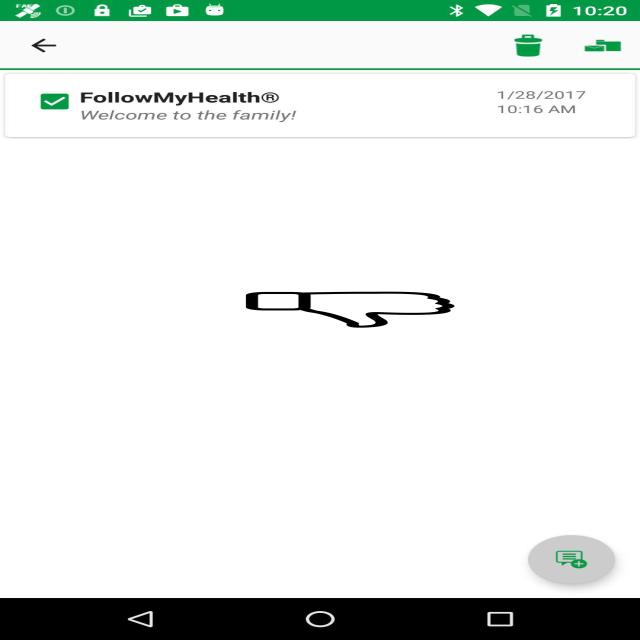obstruction: (243, 292, 457, 328)
